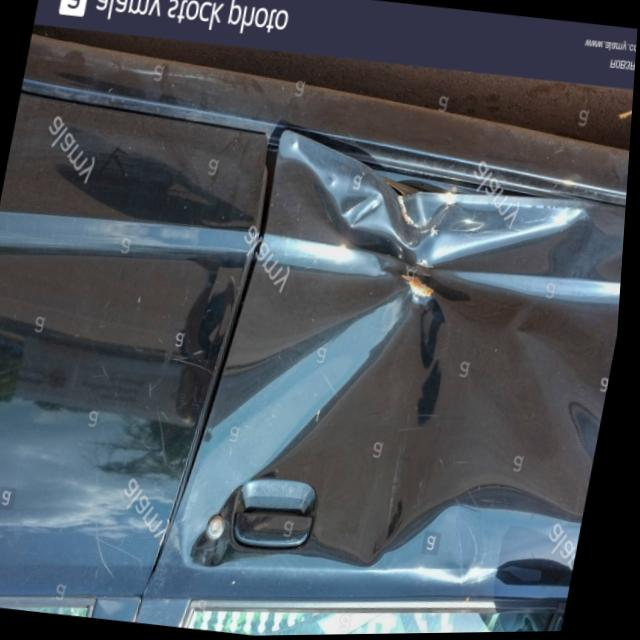Dent: (243, 211, 629, 526)
